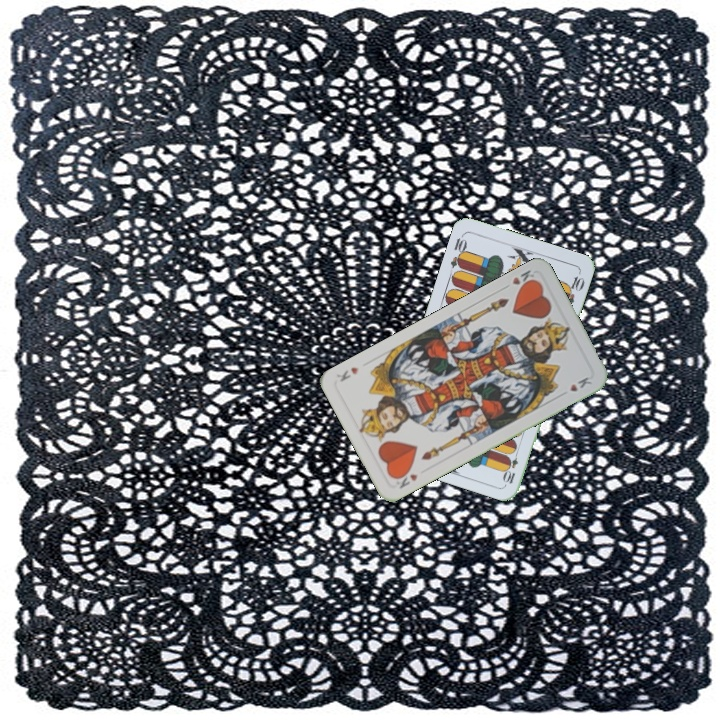E10: (446, 230, 470, 271), (501, 446, 521, 486)
HK: (499, 266, 538, 292), (391, 466, 420, 491)
